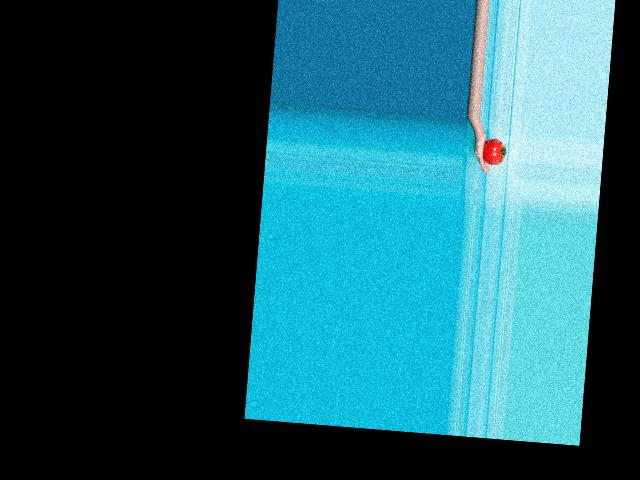tomato: (481, 138, 506, 166)
